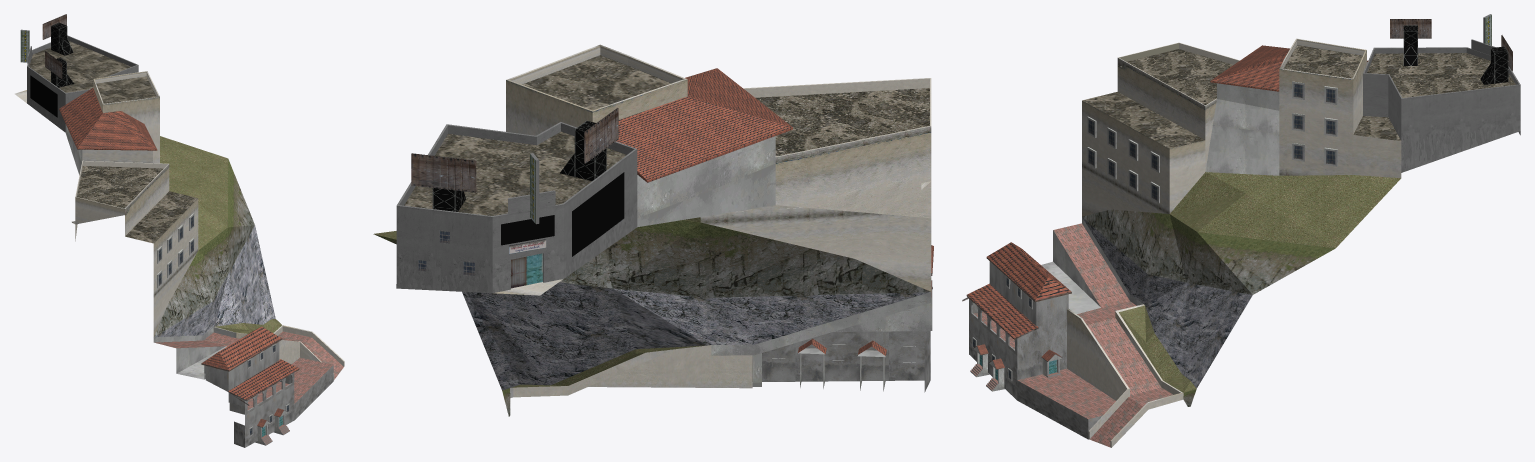
Rendered from laechicano02.obj.
3 renders of one model, left to right at view 1: azimuth 30°, elevation 25°; view 2: azimuth 150°, elevation 25°; view 3: azimuth 270°, elevation 25°, orthographic. The views are drawn at different scales.
Parts seen in each view (by area): view 1: laeChicano02; view 2: laeChicano02; view 3: laeChicano02.
Boxes of the visible parts, x1=… form: laeChicano02: x1=15, y1=14, x2=344, y2=447; laeChicano02: x1=373, y1=44, x2=933, y2=416; laeChicano02: x1=962, y1=14, x2=1520, y2=447.
Bounding box in the file's own units: 47.72 × 51.02 × 76.81.
